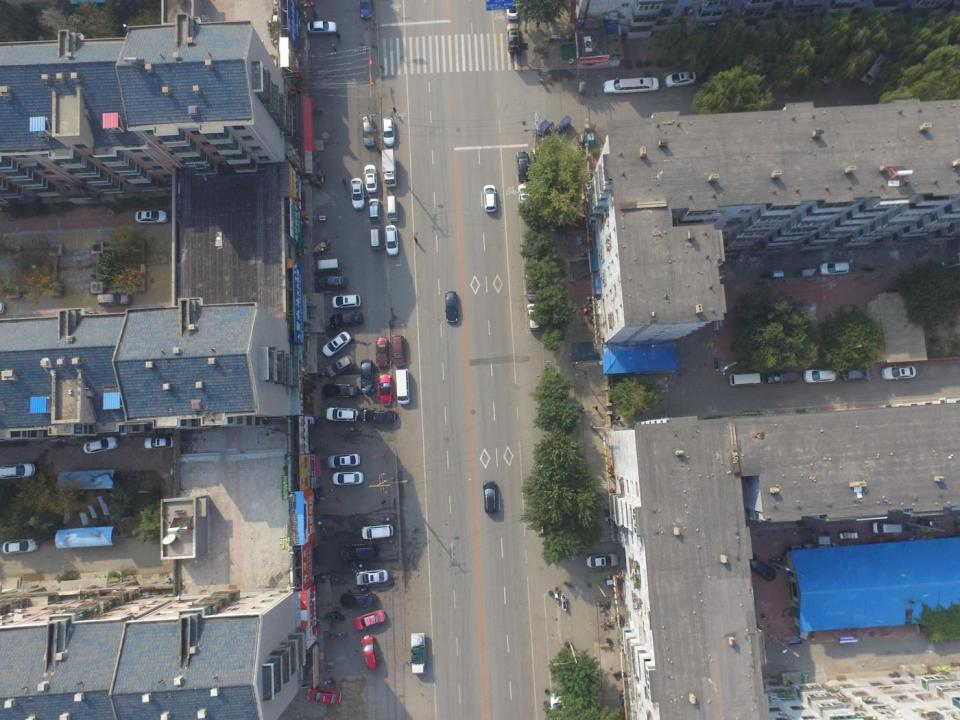bus: (860, 51, 886, 86)
car: (322, 330, 352, 358), (747, 555, 776, 581), (352, 609, 386, 631), (325, 354, 355, 378), (340, 543, 379, 561), (306, 686, 342, 705), (361, 634, 380, 670), (82, 436, 118, 455), (329, 311, 364, 329), (355, 568, 389, 586), (2, 538, 38, 555), (0, 462, 36, 479), (96, 291, 132, 308), (322, 383, 359, 399), (340, 592, 377, 608), (327, 453, 361, 470), (135, 208, 169, 225), (664, 70, 696, 88), (361, 408, 396, 424), (482, 480, 498, 514), (325, 406, 359, 422), (361, 524, 394, 540), (586, 552, 619, 568), (881, 365, 916, 380), (818, 260, 850, 276), (803, 368, 837, 383), (332, 470, 363, 486), (306, 20, 337, 36), (516, 151, 531, 184), (360, 360, 374, 395), (444, 291, 459, 323), (384, 224, 399, 256), (506, 22, 521, 54), (144, 435, 176, 450), (375, 337, 390, 368), (350, 178, 365, 209), (841, 367, 872, 382), (362, 115, 376, 148), (314, 276, 347, 290), (378, 373, 392, 405), (550, 692, 566, 720), (363, 164, 378, 193), (517, 183, 532, 212), (766, 371, 799, 384), (332, 294, 362, 308), (382, 117, 396, 147), (483, 185, 497, 214), (527, 272, 540, 301), (368, 198, 381, 222), (505, 0, 519, 20), (360, 0, 372, 19)
truck: (410, 632, 427, 675), (381, 148, 397, 188)
van: (603, 76, 660, 95), (395, 368, 410, 405), (729, 372, 764, 387), (391, 334, 406, 367), (870, 521, 903, 536), (313, 258, 342, 274), (526, 303, 541, 331), (386, 196, 398, 222), (368, 226, 381, 250)
